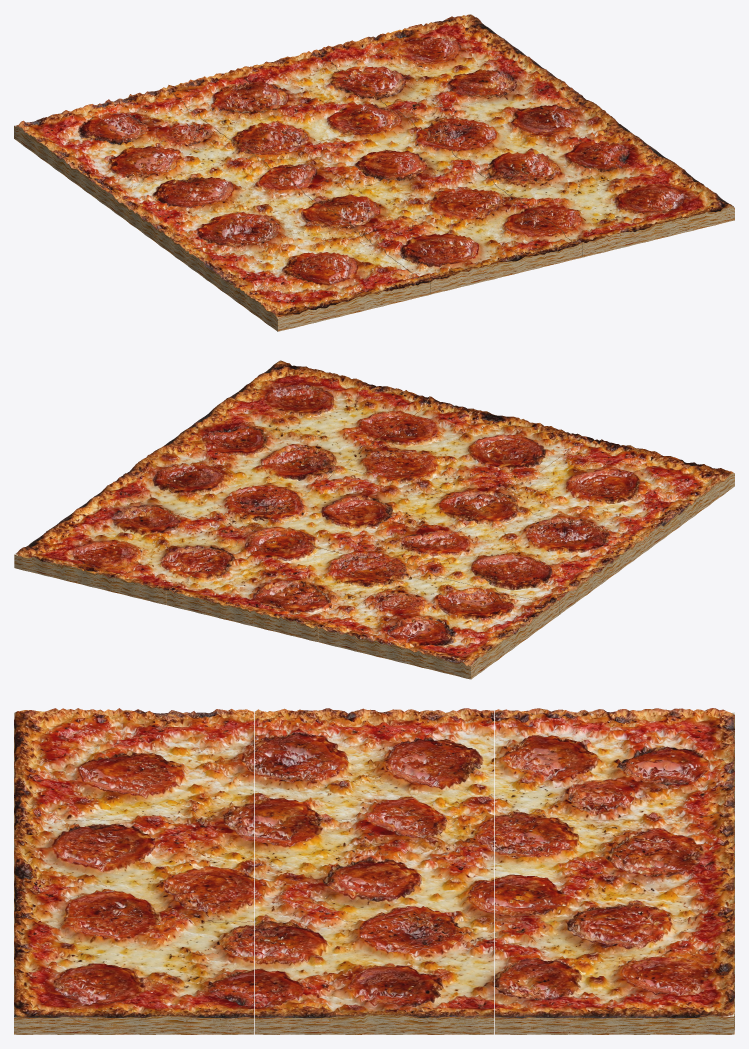
Rendered from detour-pizza.glb.
The picture shows the model from 3 angles, top to bottom: view 1: azimuth 30°, elevation 25°; view 2: azimuth 150°, elevation 25°; view 3: azimuth 270°, elevation 25°; orthographic projection. The views are drawn at different scales.
Parts seen in each view (by area): view 1: Slice_0, Slice_2, Slice_1, Slice_6, Slice_3, Slice_8, Slice_7, Slice_5, Slice_4; view 2: Slice_6, Slice_8, Slice_7, Slice_0, Slice_3, Slice_2, Slice_1, Slice_5, Slice_4; view 3: Slice_8, Slice_5, Slice_2, Slice_6, Slice_0, Slice_3, Slice_4, Slice_1, Slice_7.
Part boxes in pixels (bbox=[...]): Slice_0: bbox=[189, 219, 429, 331]; Slice_2: bbox=[495, 144, 734, 257]; Slice_1: bbox=[343, 184, 582, 294]; Slice_6: bbox=[14, 87, 253, 202]; Slice_3: bbox=[101, 155, 341, 267]; Slice_8: bbox=[319, 14, 556, 117]; Slice_7: bbox=[166, 49, 405, 154]; Slice_5: bbox=[408, 78, 646, 184]; Slice_4: bbox=[254, 118, 494, 219]; Slice_6: bbox=[319, 566, 558, 679]; Slice_8: bbox=[14, 490, 253, 604]; Slice_7: bbox=[166, 530, 406, 642]; Slice_0: bbox=[495, 436, 734, 550]; Slice_3: bbox=[407, 502, 647, 614]; Slice_2: bbox=[190, 360, 429, 466]; Slice_1: bbox=[344, 396, 581, 502]; Slice_5: bbox=[102, 427, 340, 529]; Slice_4: bbox=[255, 466, 493, 566]; Slice_8: bbox=[495, 913, 734, 1034]; Slice_5: bbox=[254, 917, 494, 1034]; Slice_2: bbox=[14, 912, 253, 1034]; Slice_6: bbox=[495, 708, 734, 820]; Slice_0: bbox=[14, 708, 253, 824]; Slice_3: bbox=[254, 708, 494, 820]; Slice_4: bbox=[254, 815, 494, 922]; Slice_1: bbox=[14, 812, 253, 922]; Slice_7: bbox=[495, 811, 734, 922].
Bounding box in the file's own units: 3.01 × 0.1033 × 3.01.
2 materials, 2 textured.
